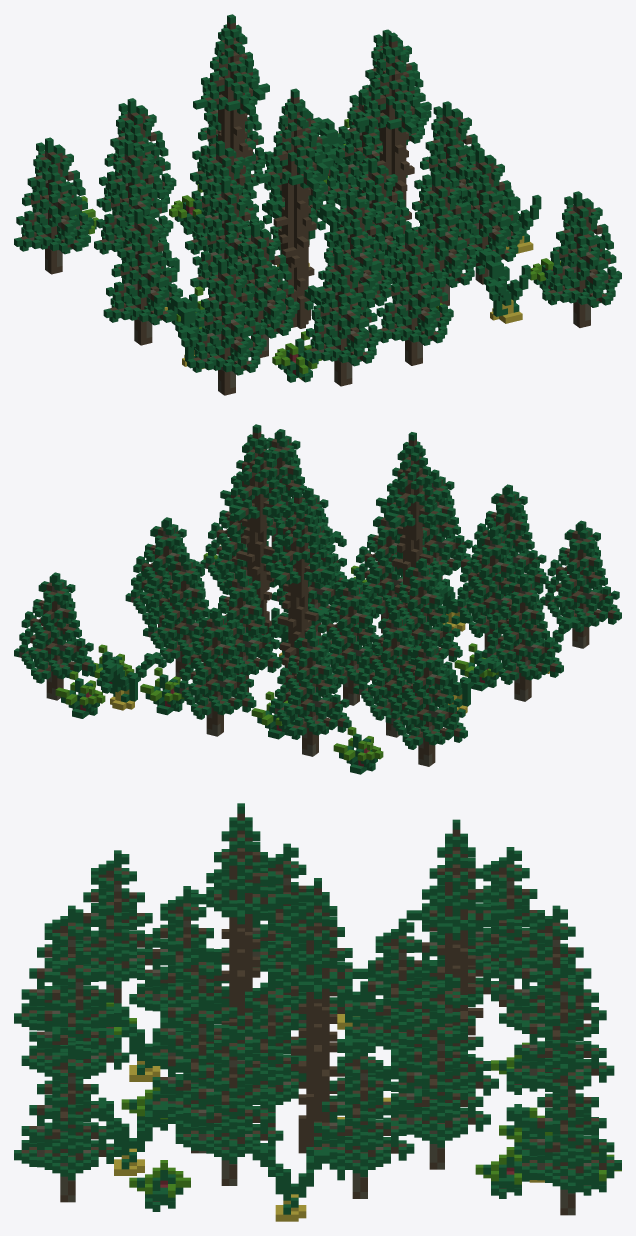
File: trees_5_overtile.obj
The picture shows the model from 3 angles, top to bottom: view 1: azimuth 30°, elevation 25°; view 2: azimuth 150°, elevation 25°; view 3: azimuth 270°, elevation 25°; orthographic projection. The views are drawn at different scales.
Bounding box in the file's own units: 7.9 × 3.9 × 7.9.
1 material, 1 textured.
